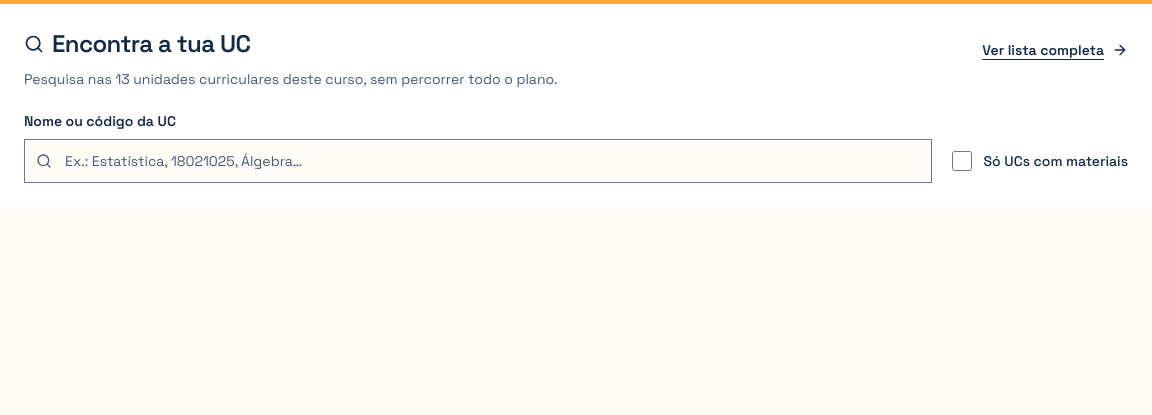
Test: CourseUnitQuickFinder › filters UCs with published video or reading coverage
The image size is (1152, 415).
Click the checkbox labelled "Só UCs com materiais".
click(962, 161)  # box [952,151,972,171]
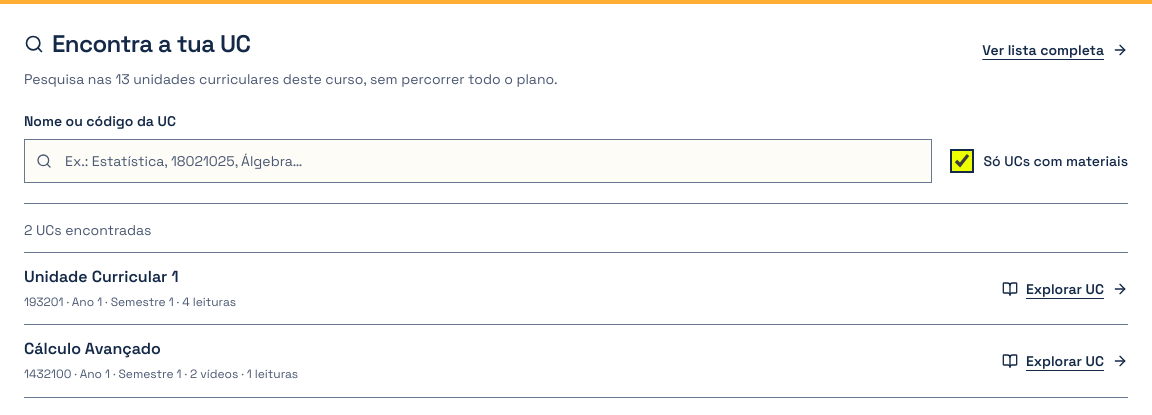
Now the message reads "2 UCs encontradas", box [24,221,151,239]
Now the link "Cálculo Avançado" is shown, box [24,338,161,359]
